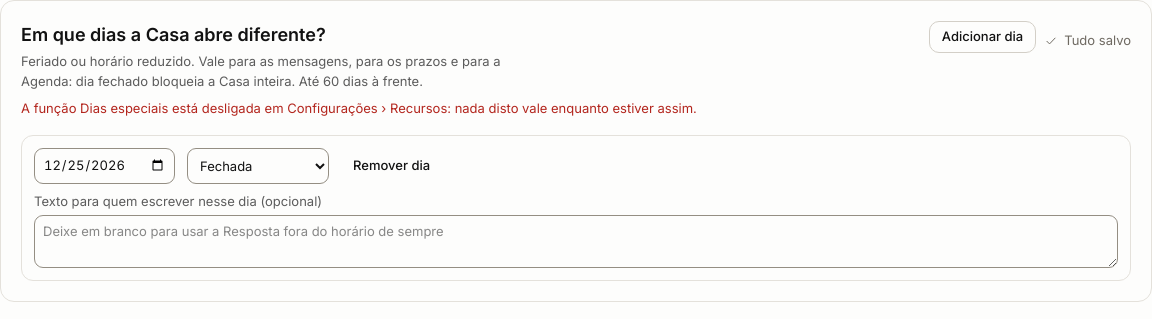
Scenario: função desligada avisa e não deixa salvar
Expected: the text "A função Dias especiais está desligada" is shown, [21, 100, 697, 116]
Click the button "Remover dia".
click(392, 166)  # box [341, 150, 442, 182]
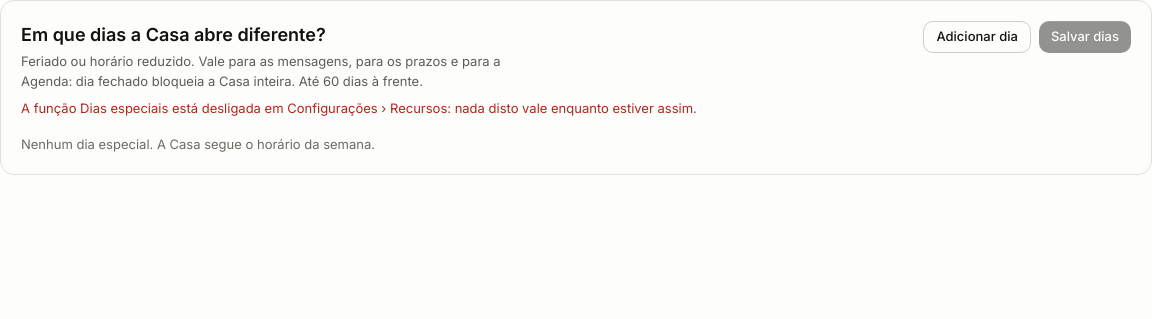
Result: the button "Salvar dias" is disabled at [1039, 21, 1131, 53]
